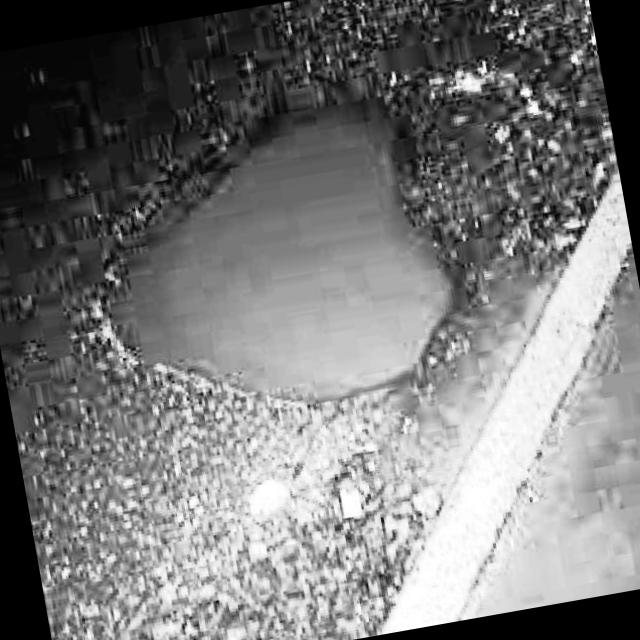Pothole: (54, 24, 509, 453)
